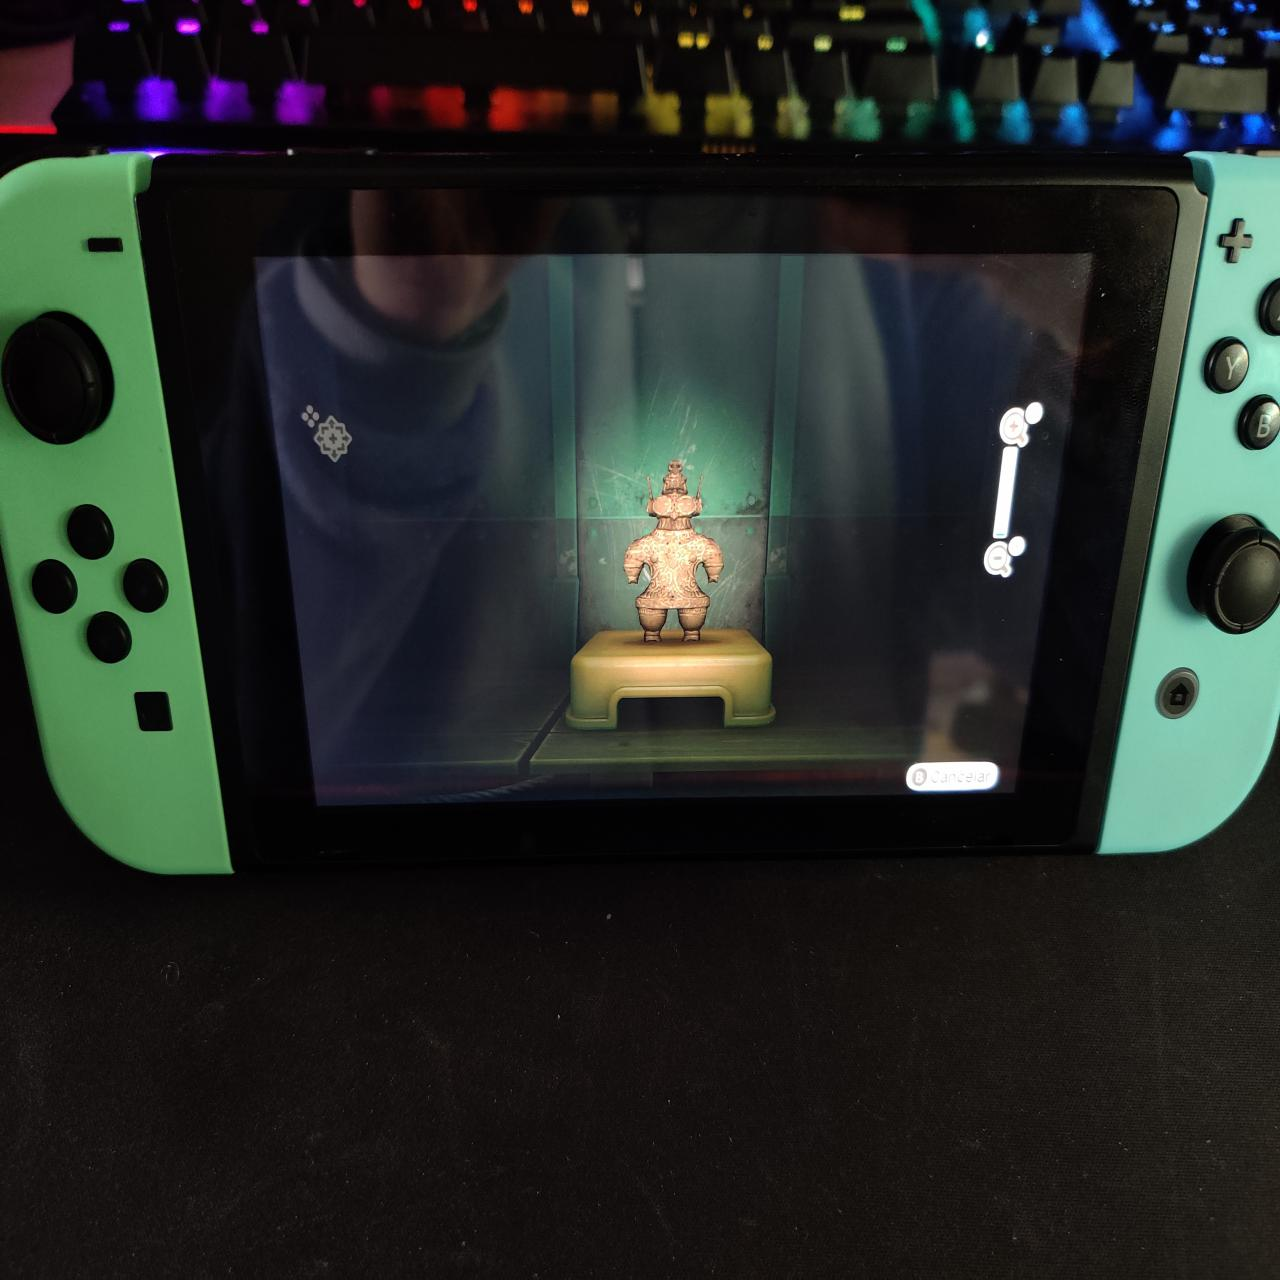DoguuFake: (620, 459, 729, 641)
